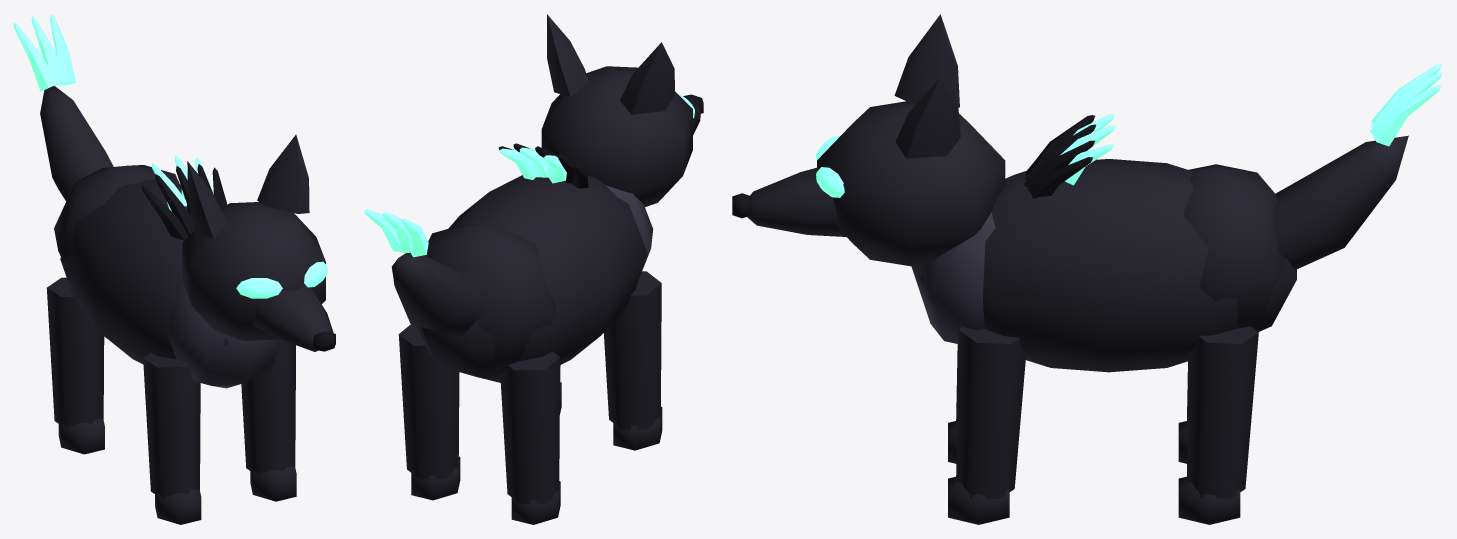
The model's file is beast-wolf.glb.
The picture shows the model from 3 angles, left to right: view 1: azimuth 30°, elevation 25°; view 2: azimuth 150°, elevation 25°; view 3: azimuth 270°, elevation 25°; orthographic projection. The views are drawn at different scales.
Visible parts, largest first — view 1: body, head, leg_fr, leg_br, leg_fl, tail, mane, glow_eyes; view 2: body, head, leg_br, leg_fr, leg_bl, tail, mane; view 3: body, head, tail, leg_bl, leg_fl, mane, glow_eyes.
Part boxes in pixels (x1,y1,x2,y2): body: [54, 165, 281, 388]; head: [182, 134, 335, 351]; leg_fr: [143, 353, 201, 524]; leg_br: [46, 277, 104, 454]; leg_fl: [241, 340, 296, 501]; tail: [14, 14, 113, 201]; mane: [141, 156, 226, 240]; glow_eyes: [236, 261, 327, 298]; body: [417, 175, 653, 382]; head: [541, 14, 703, 206]; leg_br: [500, 351, 560, 524]; leg_fr: [603, 271, 662, 450]; leg_bl: [398, 324, 460, 500]; tail: [364, 209, 484, 335]; mane: [498, 143, 588, 188]; body: [911, 159, 1296, 372]; head: [732, 14, 1005, 266]; tail: [1272, 64, 1442, 269]; leg_bl: [1178, 326, 1258, 524]; leg_fl: [948, 327, 1026, 524]; mane: [1024, 114, 1115, 198]; glow_eyes: [816, 136, 844, 197].
Size of the model in its own units: 0.26 by 0.6043 by 0.8619.
